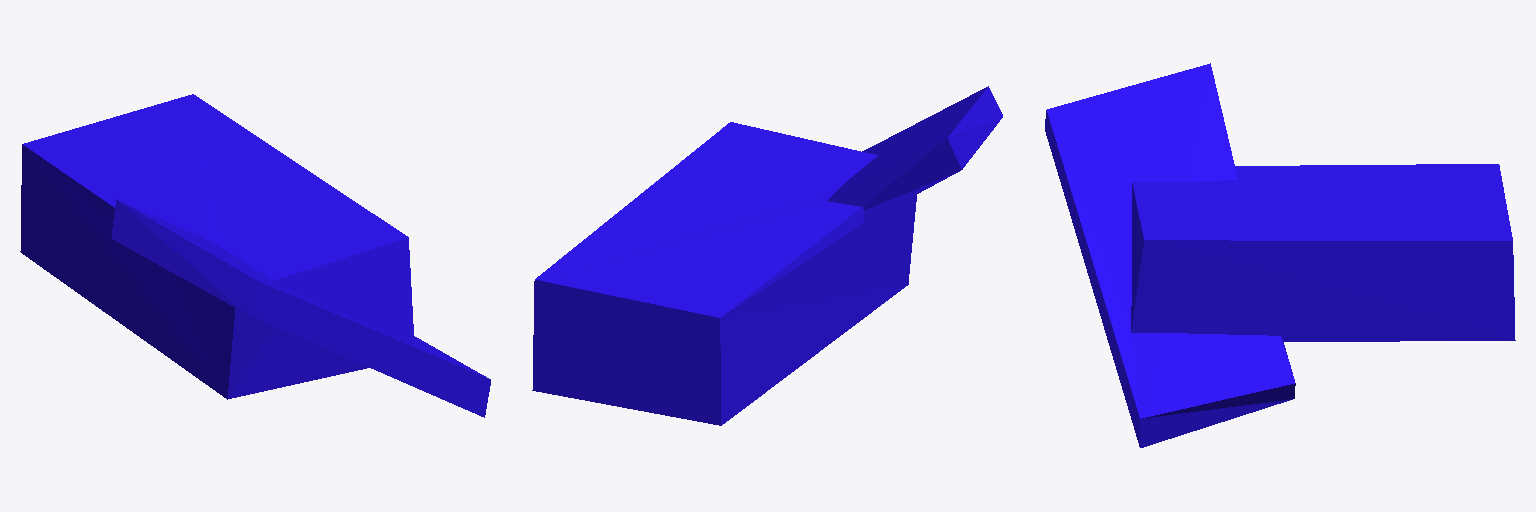
robot.urdf — blob856:

<robot name="blob856">
  <link name="random_obj_856">
    <contact>
      <lateral_friction value="1.0"/>
      <rolling_friction value="0.0"/>
      <inertia_scaling value="3.0"/>
      <contact_cfm value="0.0"/>
      <contact_erp value="1.0"/>
    </contact>
    <inertial>
      <origin rpy="0 0 0" xyz="0 0 0"/>
      <mass value="0.0671"/>
      <inertia ixx="1" ixy="0" ixz="0" iyy="1" iyz="0" izz="0"/>
    </inertial>
    <visual>
      <origin rpy="0 0 0" xyz="0 0 0"/>
      <geometry>
        <mesh filename="856.obj" scale="0.0081 0.0081 0.0081"/>
      </geometry>
      <material name="blockmat">
        <color rgba="0.21 0.11 1.00 1"/>
      </material>
    </visual>
    <collision>
      <origin rpy="0 0 0" xyz="0 0 0"/>
      <geometry>
        <mesh filename="856_coll.obj" scale="0.0081 0.0081 0.0081"/>
      </geometry>
    </collision>
  </link>
</robot>

--- What the picture shows (computed from the rendered views, not written in the file) ---
Views: 3 orthographic renders of the robot side by side, from view 1: azimuth 30°, elevation 25°; view 2: azimuth 150°, elevation 25°; view 3: azimuth 270°, elevation 25°.
Robot: blob856 — 1 links, 0 joints (none); root link random_obj_856; default pose: every joint at zero.
Visible links, largest first — view 1: random_obj_856; view 2: random_obj_856; view 3: random_obj_856.
Link boxes in pixels (left/top/right/bottom): random_obj_856: left=20, top=94, right=490, bottom=417; random_obj_856: left=532, top=86, right=1002, bottom=425; random_obj_856: left=1045, top=63, right=1515, bottom=447.
Size in the robot's own frame: 0.094 by 0.1241 by 0.0703 metres.
Meshes: 1 distinct files referenced, 1 mesh visuals loaded (1 OBJ).
